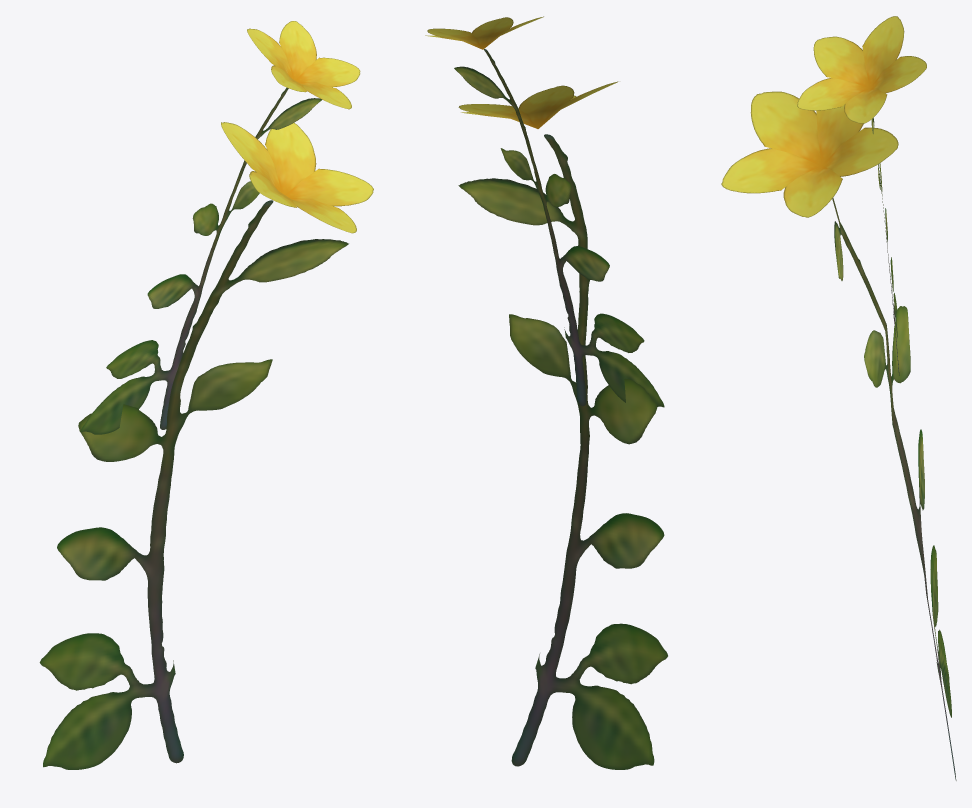
File: sucai_20.FBX
3 views of the same model, side by side, from view 1: azimuth 30°, elevation 25°; view 2: azimuth 150°, elevation 25°; view 3: azimuth 270°, elevation 25° (orthographic). The views are drawn at different scales.
Visible parts, largest first — view 1: sucai_20; view 2: sucai_20; view 3: sucai_20.
Part boxes in pixels (x1=…): sucai_20: x1=39, y1=21, x2=373, y2=769; sucai_20: x1=425, y1=16, x2=667, y2=769; sucai_20: x1=721, y1=16, x2=956, y2=780.
Bounding box in the file's own units: 53.18 × 124 × 34.24.
